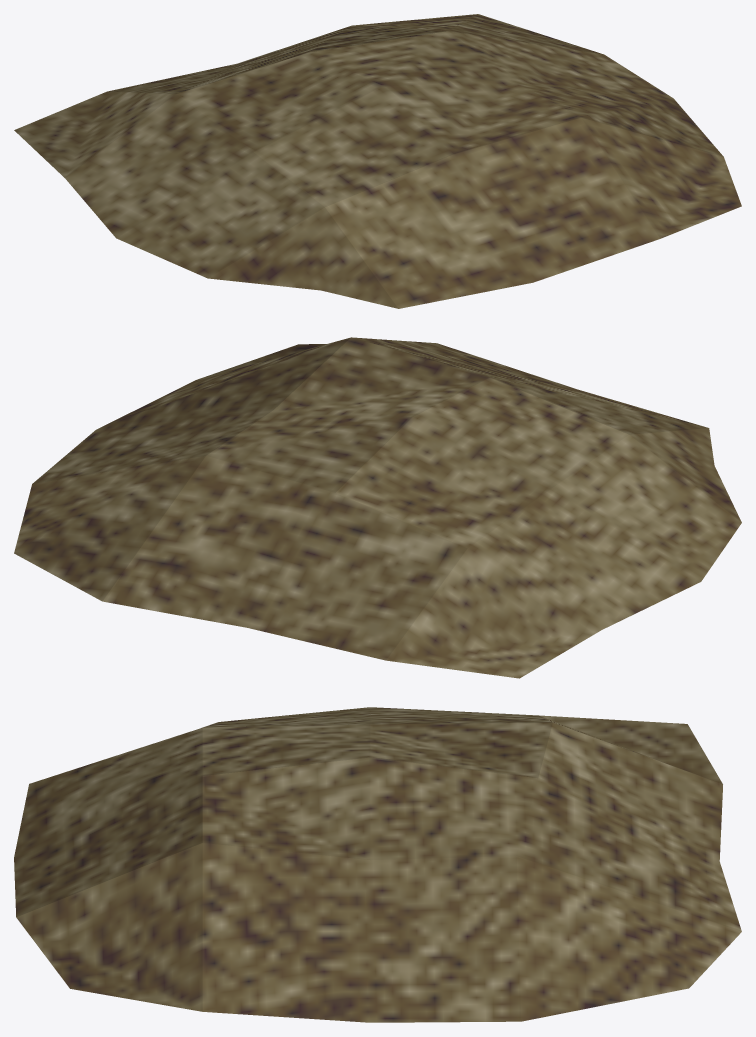
Rendered from SM_EC_Hay_Patch_2.fbx.
3 views of the same model, one above another, from view 1: azimuth 30°, elevation 25°; view 2: azimuth 150°, elevation 25°; view 3: azimuth 270°, elevation 25° (orthographic). The views are drawn at different scales.
Visible parts, largest first — view 1: SM_EC_Hay_Patch_2; view 2: SM_EC_Hay_Patch_2; view 3: SM_EC_Hay_Patch_2.
Boxes of the visible parts, x1,y1,x2,y2 form: SM_EC_Hay_Patch_2: [14, 14, 741, 308]; SM_EC_Hay_Patch_2: [14, 337, 741, 678]; SM_EC_Hay_Patch_2: [14, 707, 741, 1022].
Size of the model in its own units: 1.52 by 1.46 by 0.2259.
